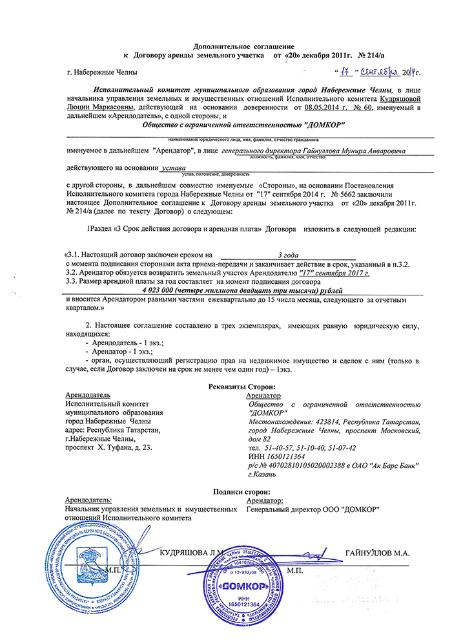stamp: (42, 520, 140, 616), (202, 545, 284, 625)
